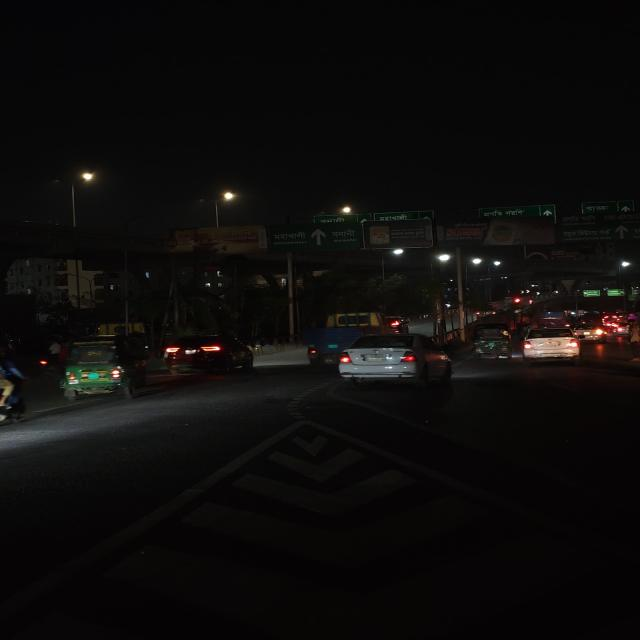car: (335, 332, 454, 388), (160, 333, 261, 377), (520, 324, 583, 364), (574, 322, 608, 343)
cng: (56, 335, 148, 401), (468, 323, 513, 361)
pickup_van: (298, 306, 418, 344)
